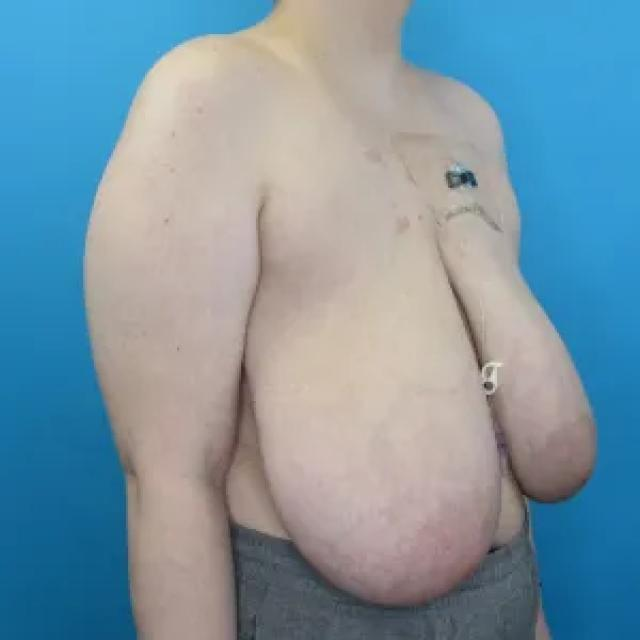Seno ileso: (238, 223, 505, 623), (507, 268, 603, 515)
